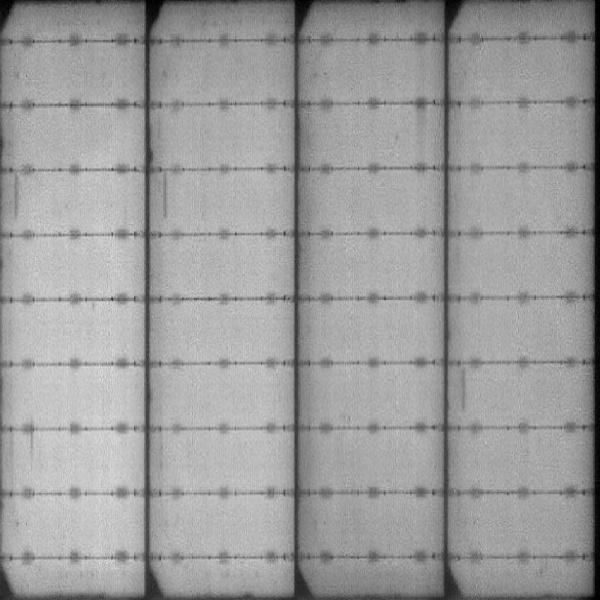scratch: (10, 170, 23, 219), (158, 181, 173, 219), (457, 367, 468, 412)
